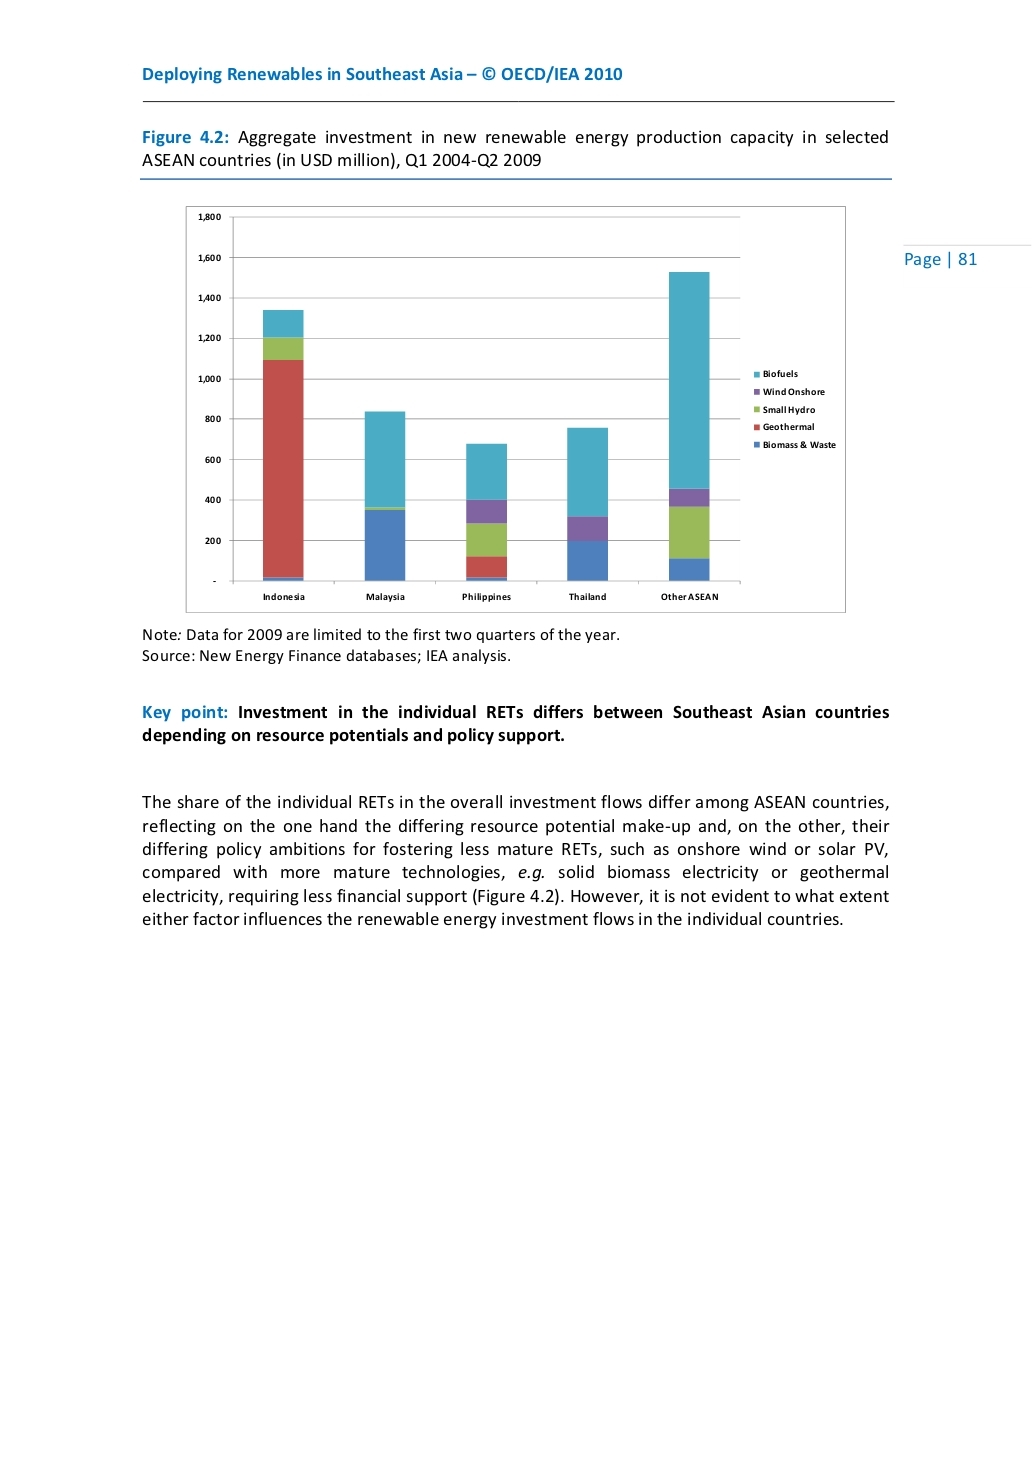figure: (185, 205, 845, 613)
